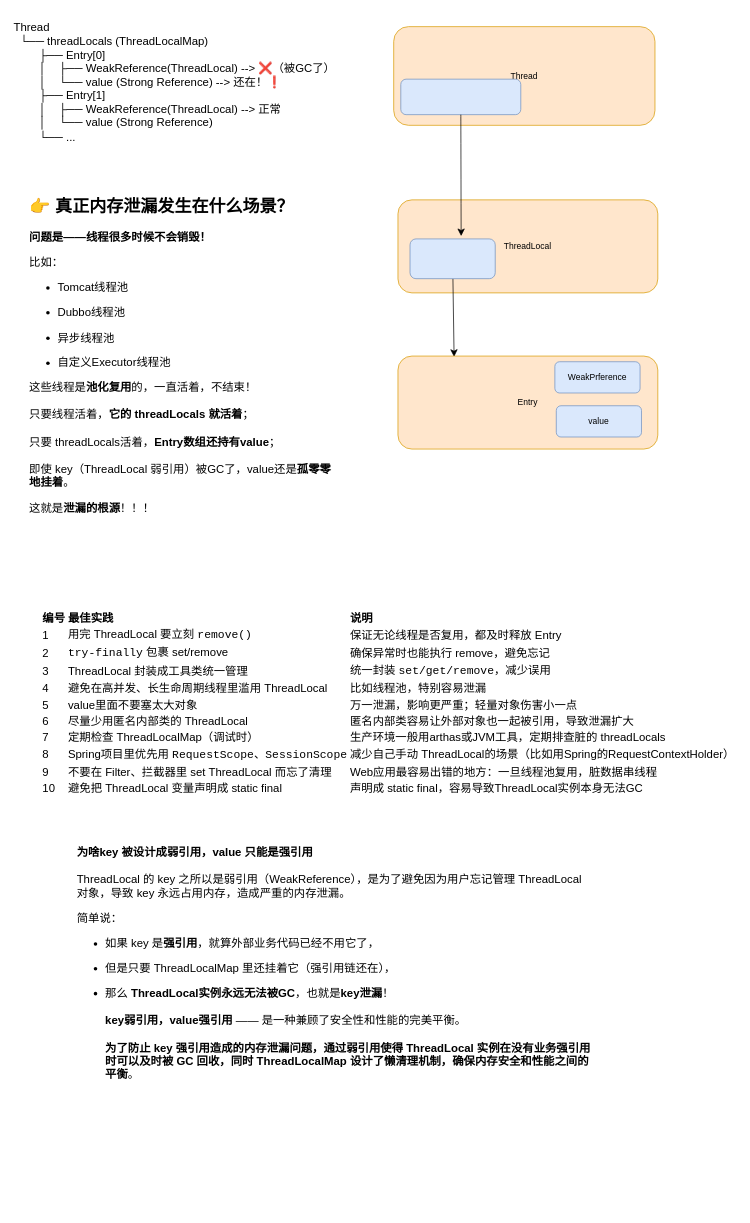
Image size: 750x1223. Some labels were removed from this diagram. The shapes that lost their labels are listed below. From the top down, each one's centre as x and y in pixels, then its label:
At point 460,96: "ThreadLocal.ThreadLocalMap".
At point 452,258: "ThreadLocalMap".
